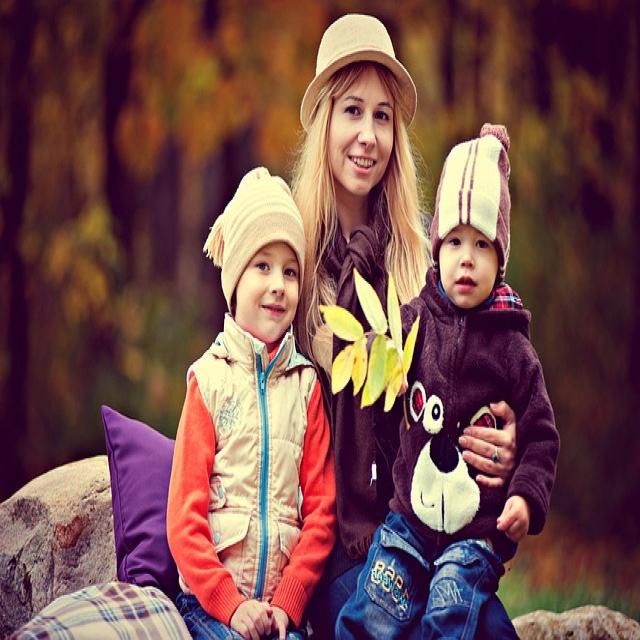adult: (292, 11, 520, 640)
child: (335, 121, 562, 640), (165, 166, 336, 640)
